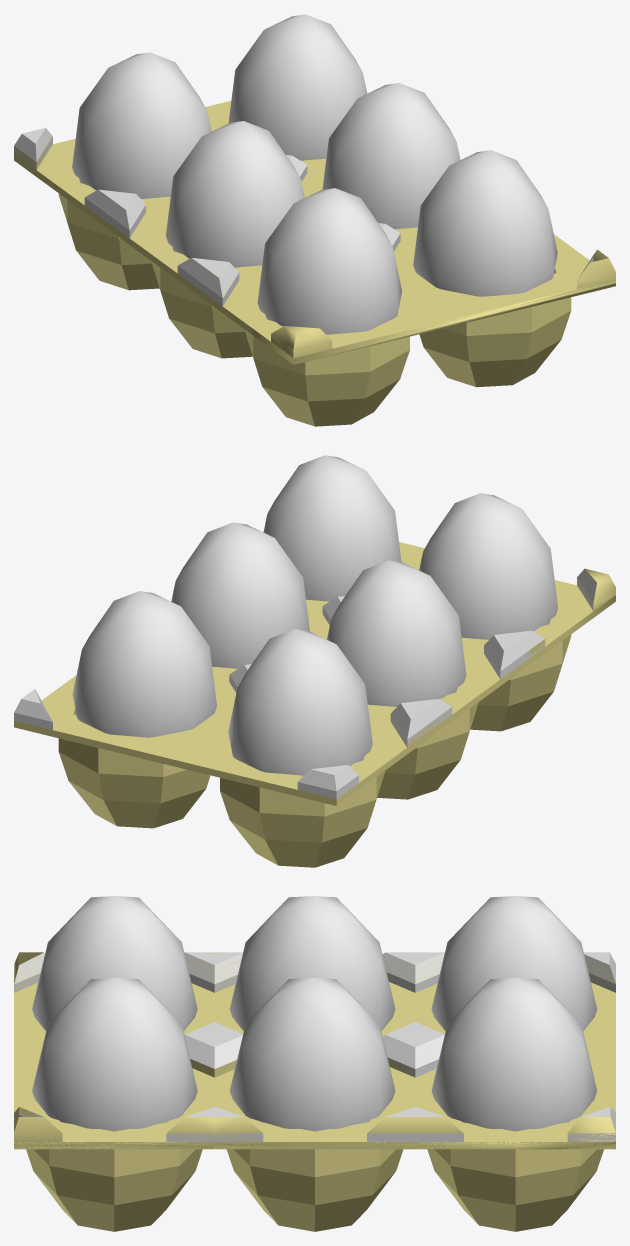
File: SM_6Eggs.fbx
The picture shows the model from 3 angles, top to bottom: view 1: azimuth 30°, elevation 25°; view 2: azimuth 150°, elevation 25°; view 3: azimuth 270°, elevation 25°; orthographic projection. The views are drawn at different scales.
Parts seen in each view (by area): view 1: Cube.001; view 2: Cube.001; view 3: Cube.001.
Part boxes in pixels (x1,y1,x2,y2): Cube.001: [14, 14, 615, 426]; Cube.001: [14, 455, 615, 867]; Cube.001: [14, 896, 615, 1231].
Size of the model in its own units: 26.8 by 17.21 by 40.21.
